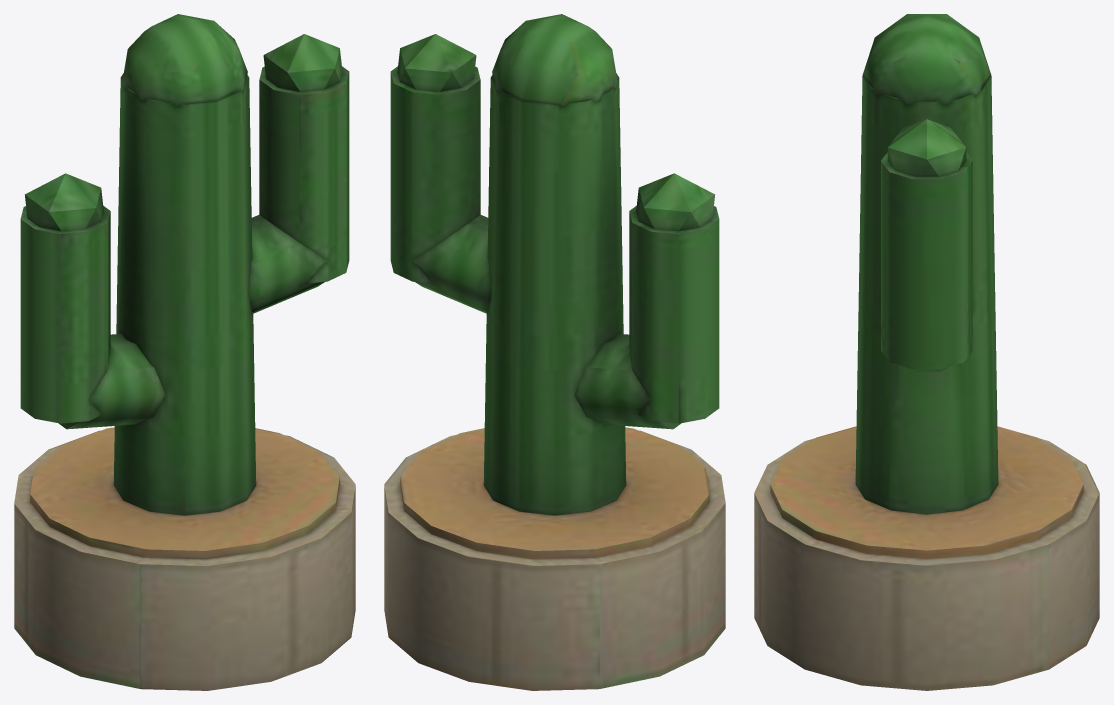
File: saguaro_maceta.glb
3 renders of one model, left to right at view 1: azimuth 30°, elevation 25°; view 2: azimuth 150°, elevation 25°; view 3: azimuth 270°, elevation 25°, orthographic.
Parts seen in each view (by area): view 1: saguaro_maceta; view 2: saguaro_maceta; view 3: saguaro_maceta.
Part boxes in pixels (x1,y1,x2,y2): saguaro_maceta: (14,14,355,690); saguaro_maceta: (384,14,725,690); saguaro_maceta: (754,14,1099,690).
Bounding box in the file's own units: 1.58 × 2.88 × 1.5.
1 material, 1 textured.
